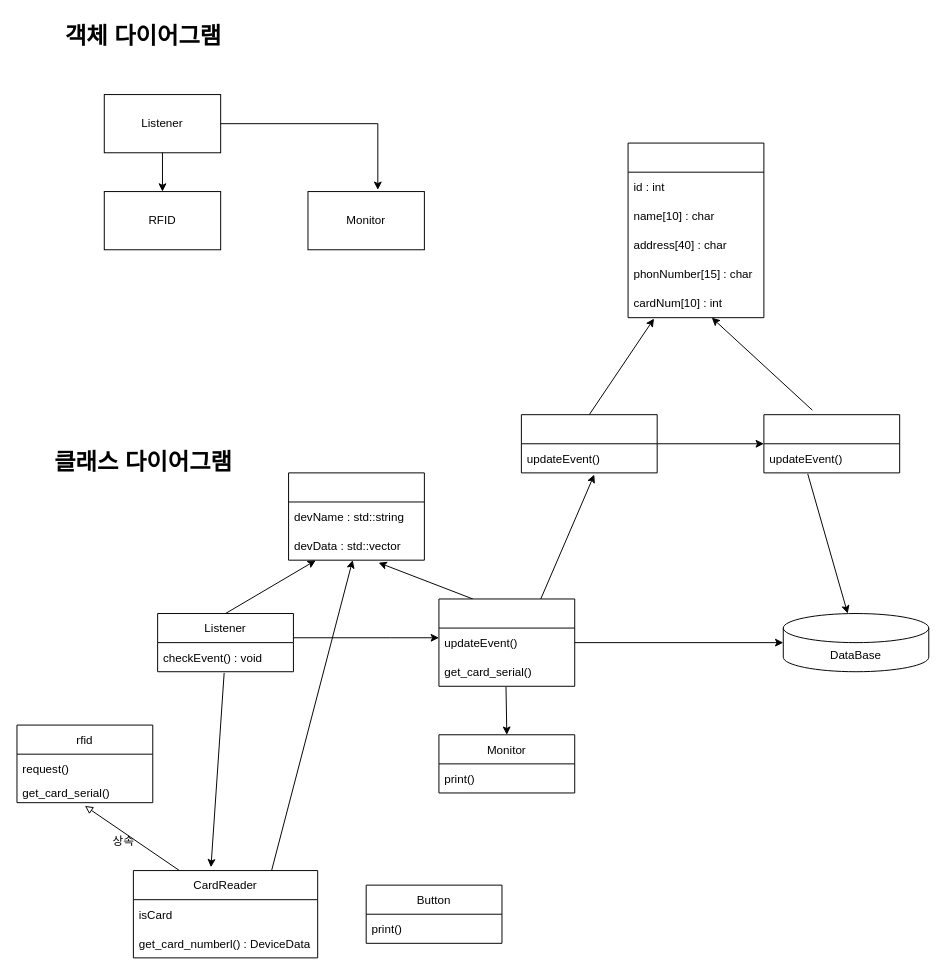
The diagram is 946 pixels wide and 975 high, and some of its shapes have lost their labels. The shapes that lost their labels are listed below. From the top down, each one's box as (x1, y1, x2, y2) in pixels, then its label:
(627, 142, 764, 318): MemberInfo
(520, 414, 657, 473): MemberManage Service
(763, 414, 900, 473): MemberEntity
(288, 472, 424, 560): DeviceData
(438, 598, 575, 686): Controller
